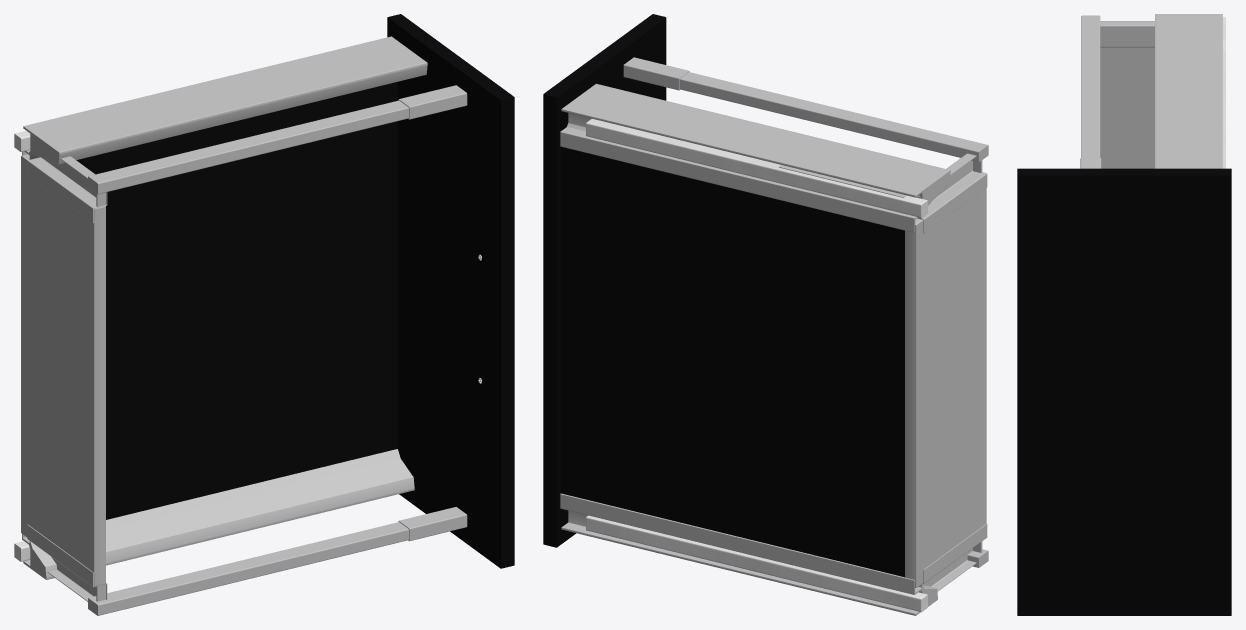
File: Kitchen01Drawer01.obj
3 renders of one model, left to right at view 1: azimuth 30°, elevation 25°; view 2: azimuth 150°, elevation 25°; view 3: azimuth 270°, elevation 25°, orthographic. The views are drawn at different scales.
Visible parts, largest first — view 1: Kitchen01Drawer01; view 2: Kitchen01Drawer01; view 3: Kitchen01Drawer01.
Part boxes in pixels (x1,y1,x2,y2): Kitchen01Drawer01: [14, 14, 514, 615]; Kitchen01Drawer01: [543, 14, 988, 615]; Kitchen01Drawer01: [1017, 14, 1231, 615].
Bounding box in the file's own units: 0.5199 × 0.5969 × 0.263.
Materials: 4 (1 with a texture image).
